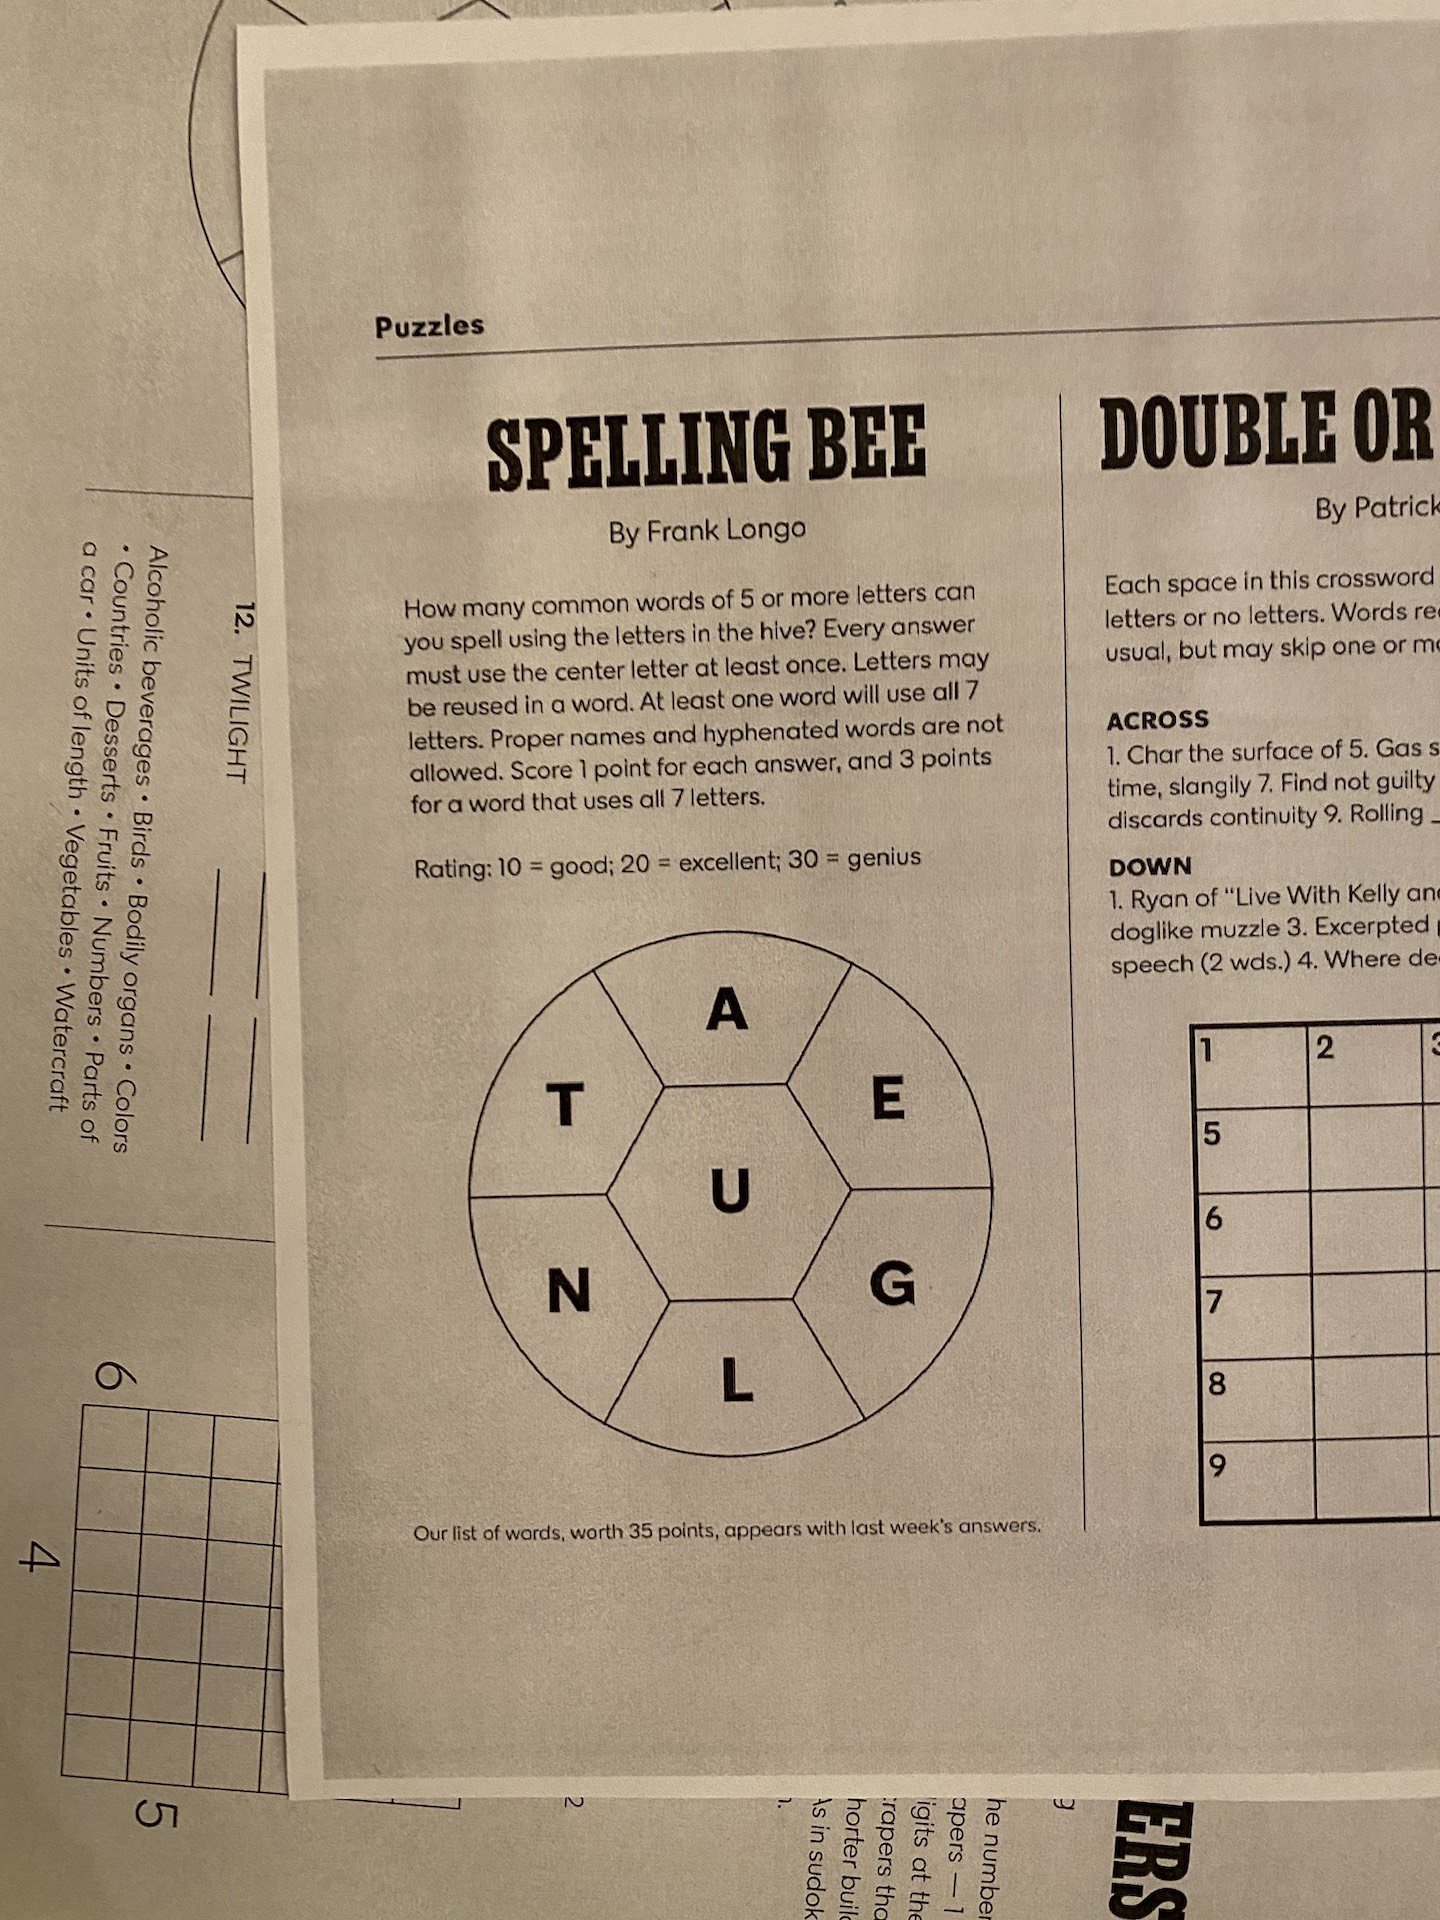PrintBoard: (434, 924, 1013, 1476)
